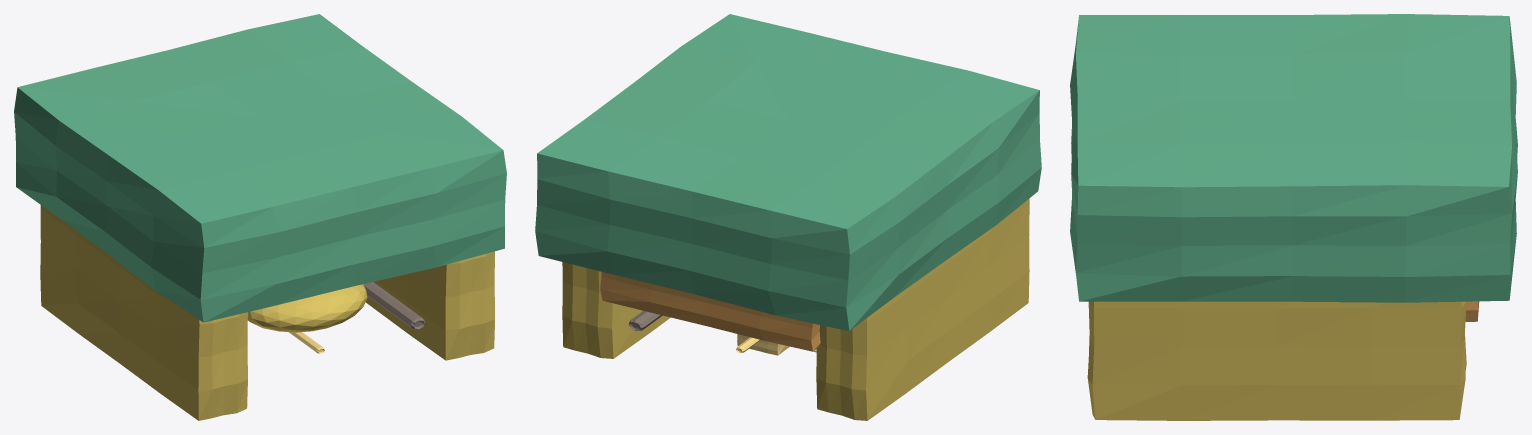
File: mochila-explorador.glb
3 renders of one model, left to right at view 1: azimuth 30°, elevation 25°; view 2: azimuth 150°, elevation 25°; view 3: azimuth 270°, elevation 25°, orthographic. The views are drawn at different scales.
Visible parts, largest first — view 1: mochila-explorador_00, mochila-explorador_02, mochila-explorador_03, mochila-explorador_04, Detalle_05; view 2: mochila-explorador_00, mochila-explorador_02, mochila-explorador_01, mochila-explorador_03; view 3: mochila-explorador_00, mochila-explorador_03.
Boxes of the visible parts, x1,y1,x2,y2 form: mochila-explorador_00: (14,14,506,322); mochila-explorador_02: (40,205,247,420); mochila-explorador_03: (365,251,494,360); mochila-explorador_04: (247,284,367,332); Detalle_05: (363,282,425,329); mochila-explorador_00: (535,14,1041,330); mochila-explorador_02: (816,198,1029,420); mochila-explorador_01: (600,272,820,351); mochila-explorador_03: (562,262,670,358); mochila-explorador_00: (1070,14,1517,302); mochila-explorador_03: (1087,301,1466,420).
Size of the model in its own units: 0.7494 by 0.4738 by 0.7989.
